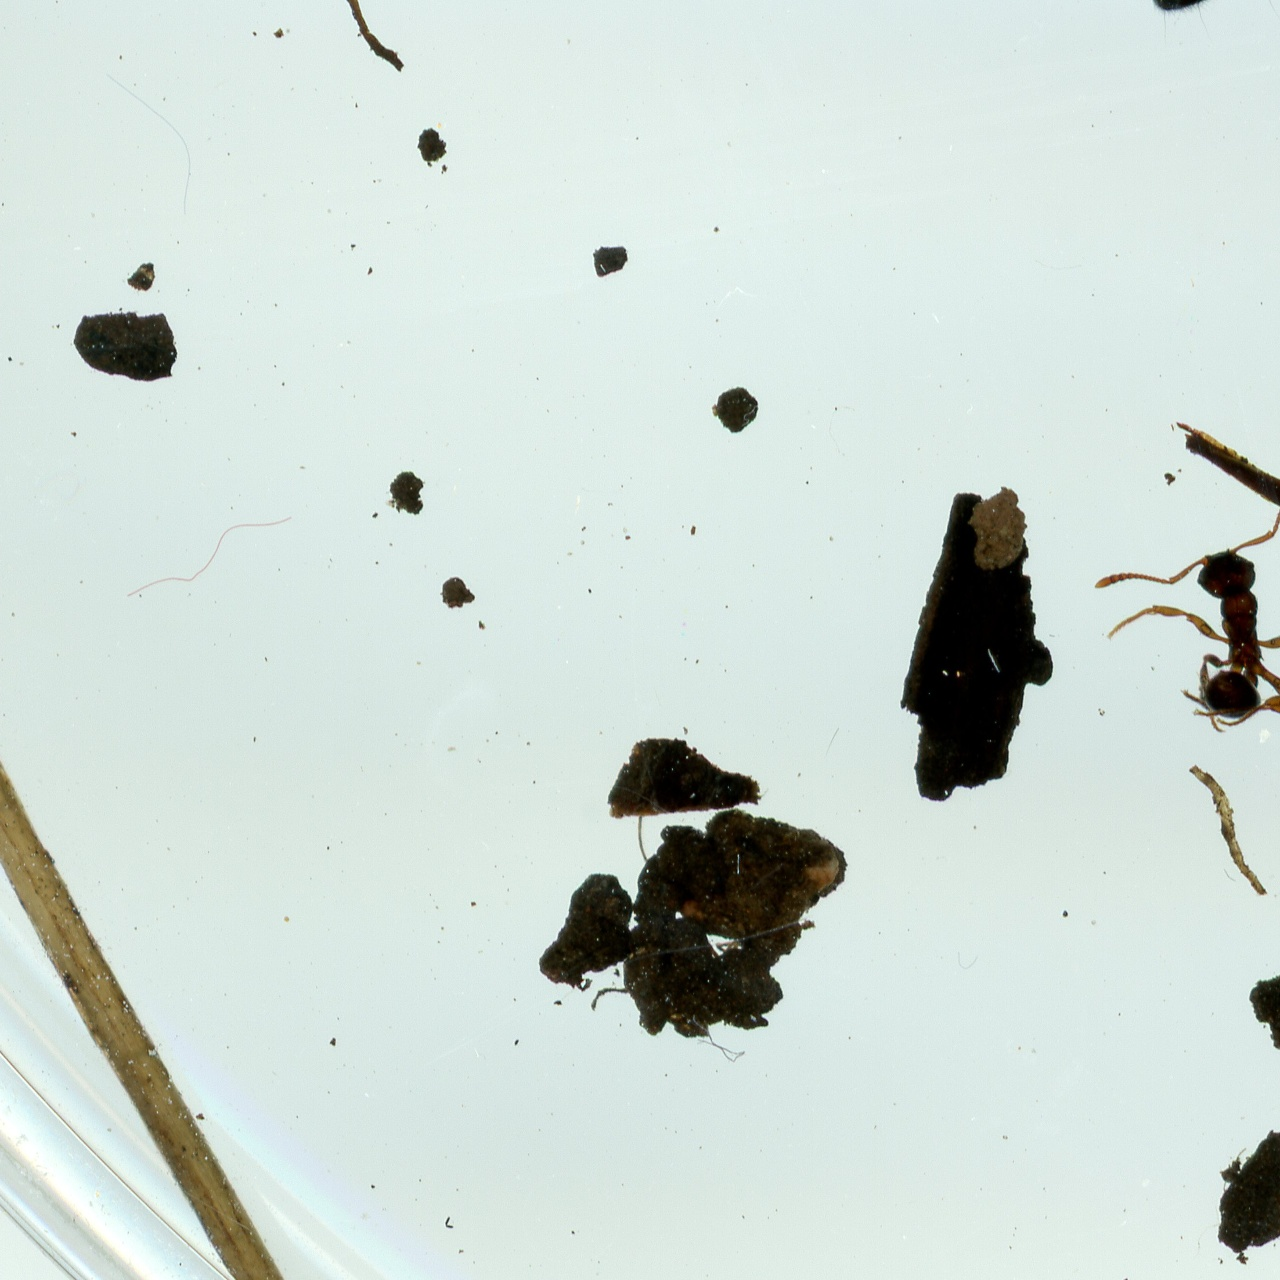arthropod: (1091, 465, 1280, 735), (982, 0, 1280, 101)
